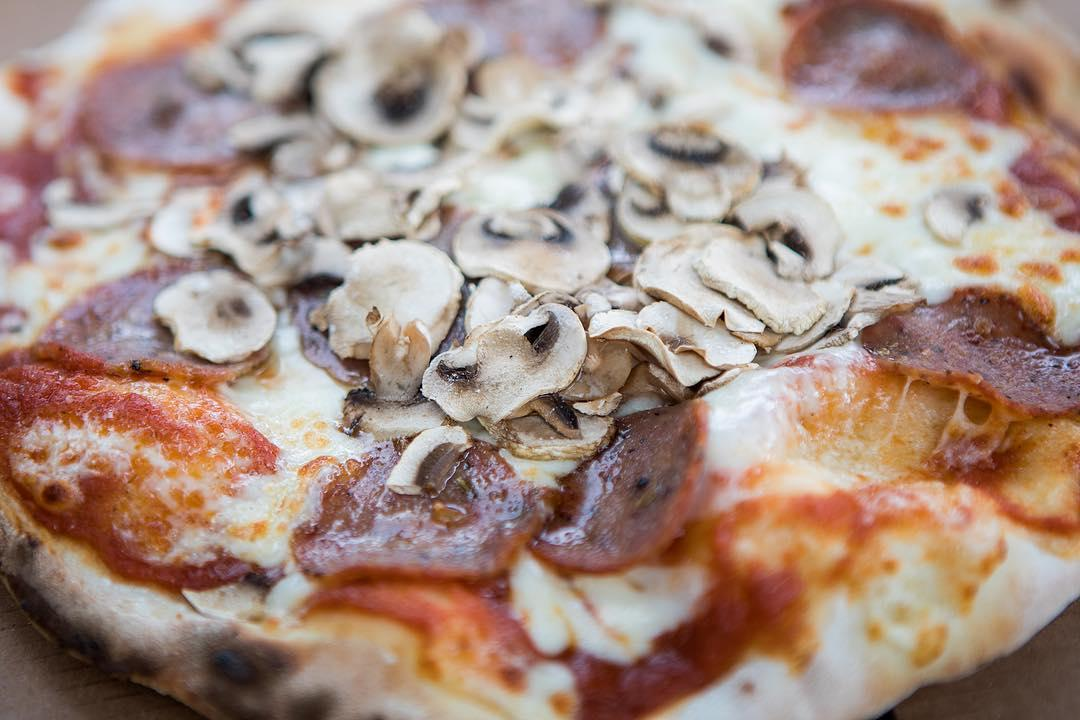Mushroom: (504, 230, 856, 488), (332, 85, 609, 296), (210, 0, 612, 135), (537, 109, 846, 278), (409, 269, 567, 446), (316, 236, 471, 387), (133, 268, 295, 383), (382, 413, 505, 507), (894, 167, 1005, 246)
Pepperoni: (0, 362, 298, 579), (280, 429, 550, 590), (514, 389, 721, 573), (847, 277, 1080, 432), (28, 255, 278, 392), (71, 55, 287, 188), (770, 0, 997, 122), (426, 0, 603, 69)
Pizza: (0, 2, 1080, 720)
